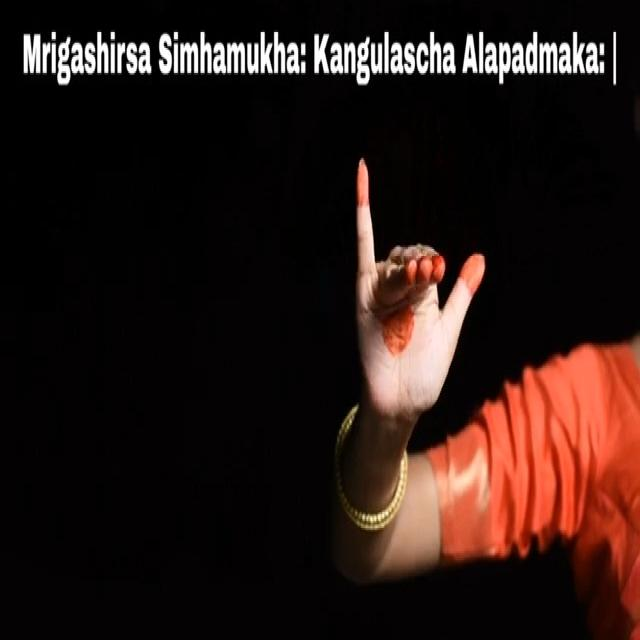Mrigashirsha: (346, 137, 499, 429)
bangle: (328, 423, 412, 547)
text: (14, 28, 616, 88)
